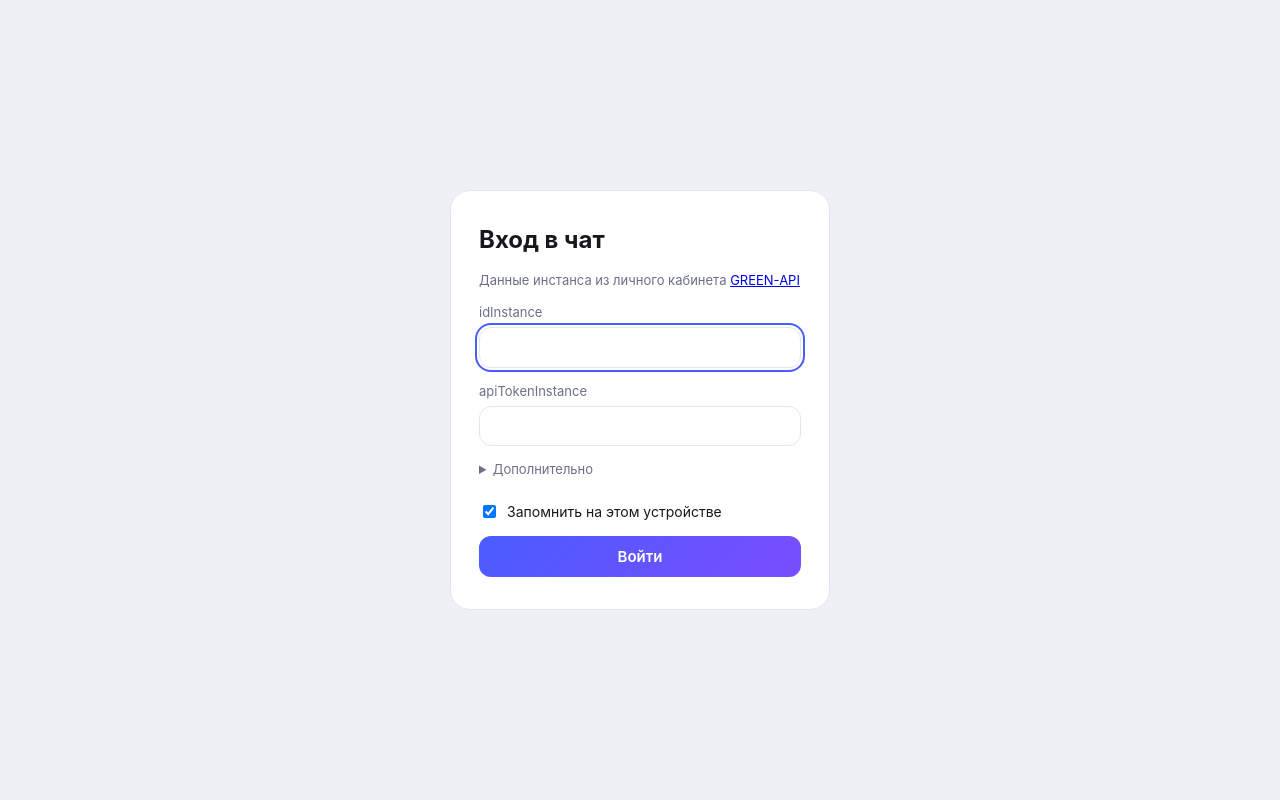
it: чат › сообщение от незнакомого отправителя создаёт чат со счётчиком
The width and height of the screenshot is (1280, 800).
Type "41000" into the field labelled "idInstance". click: (640, 347)
box: [479,327,801,368]
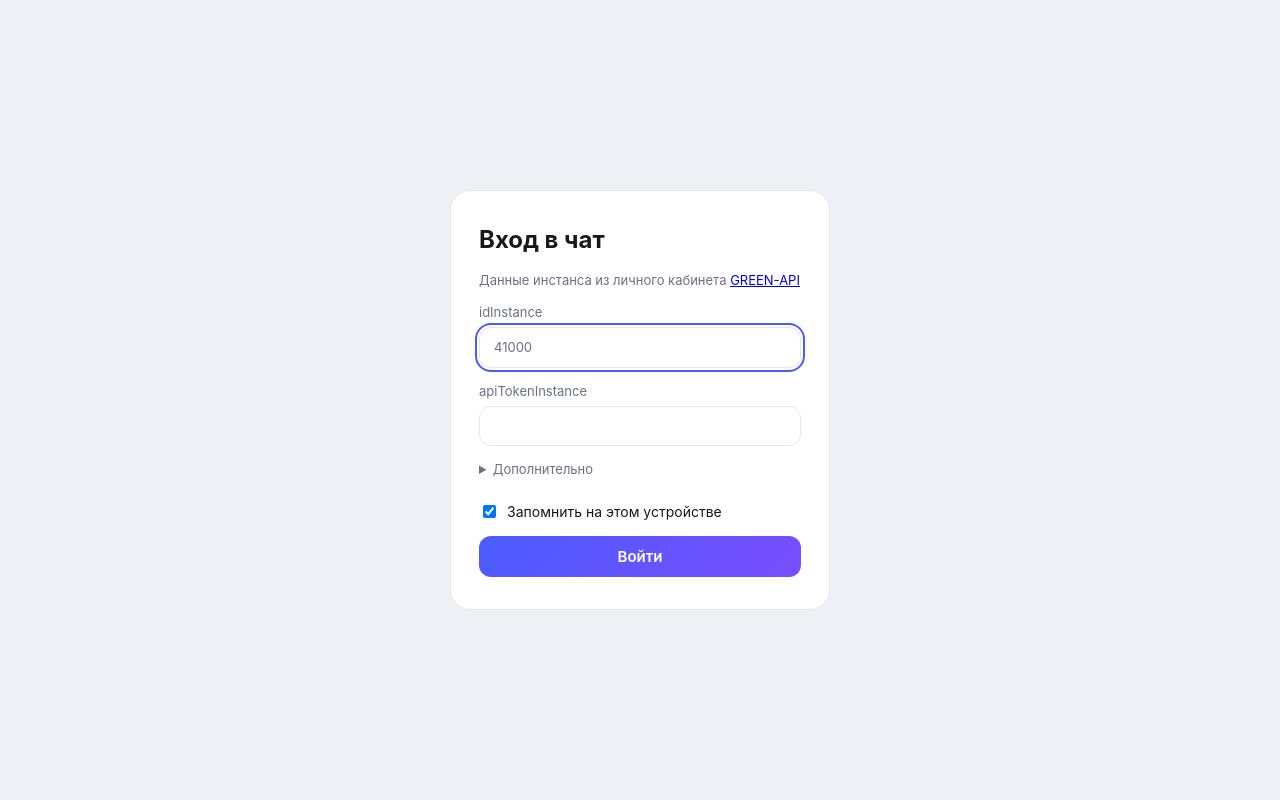
Type "secret" into the password field labelled "apiTokenInstance". click: (640, 426)
box: [479,406,801,446]
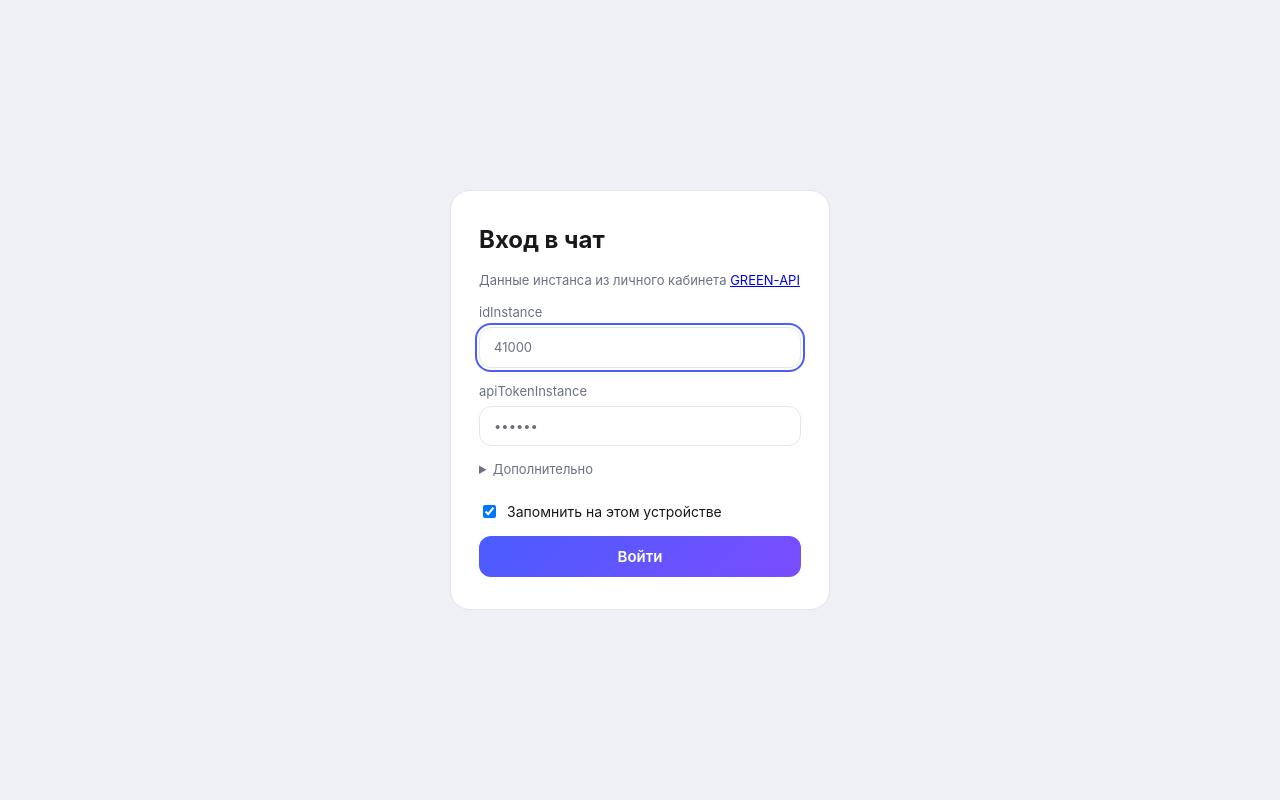
Click the button "Войти". click: (640, 556)
box: [479,536,801,577]
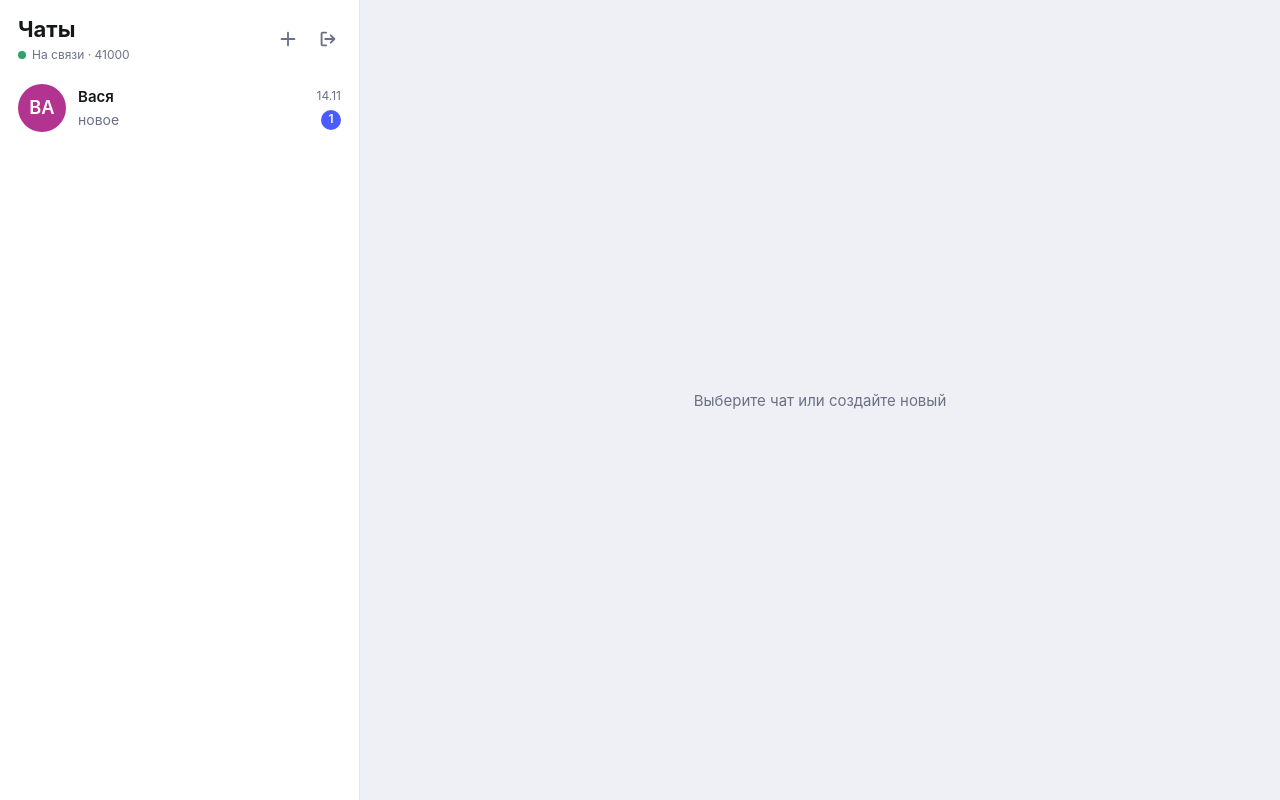
Expected: the heading "Чаты" is shown, [18,16,75,42]
Expected: the text "Вася" is shown, [78,86,114,107]
Expected: the text named "Непрочитанных: 1" is shown, [321,110,341,130]
